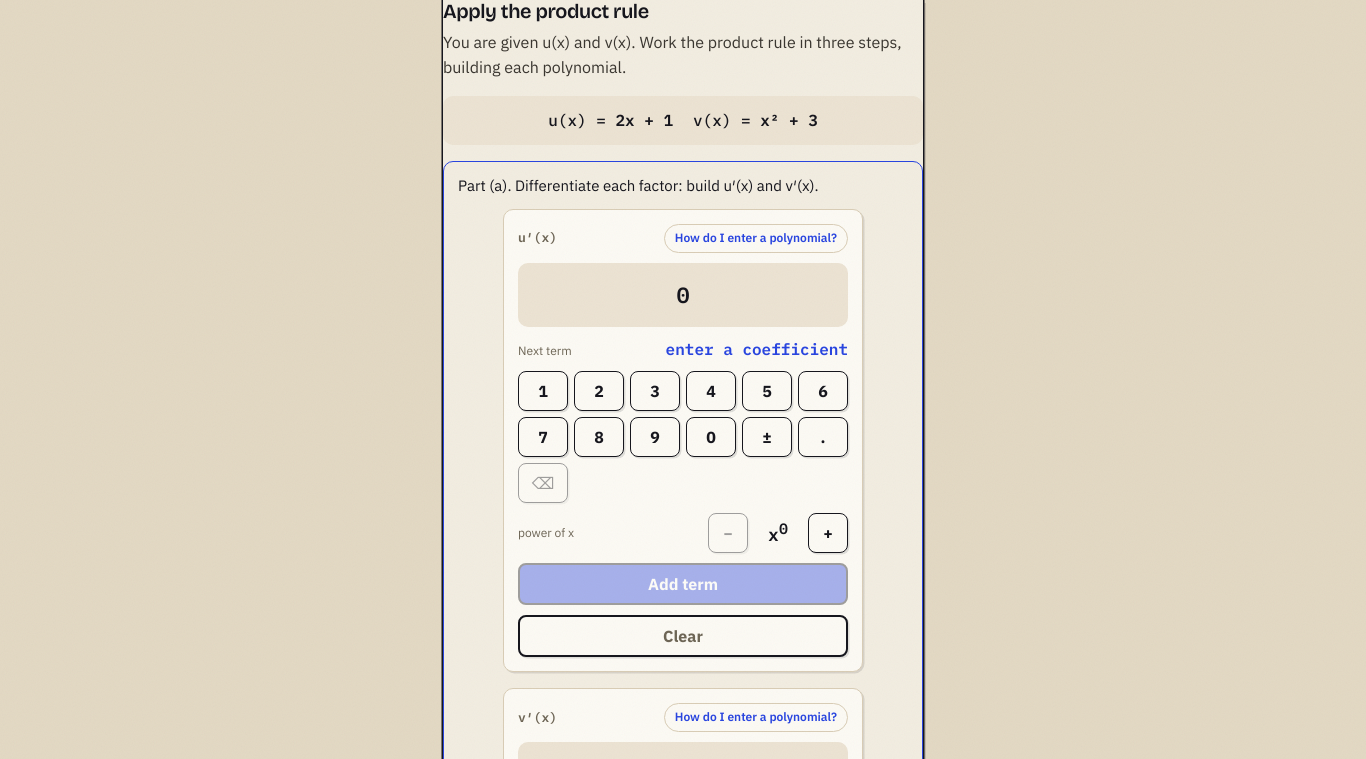
Scenario: product-rule wrong-feedback copy › surfaces that exact message when a part is answered wrong
The image size is (1366, 759).
Step 1. Click the button named "digit 9" → click(655, 437), box x1=630 y1=417 x2=680 y2=457
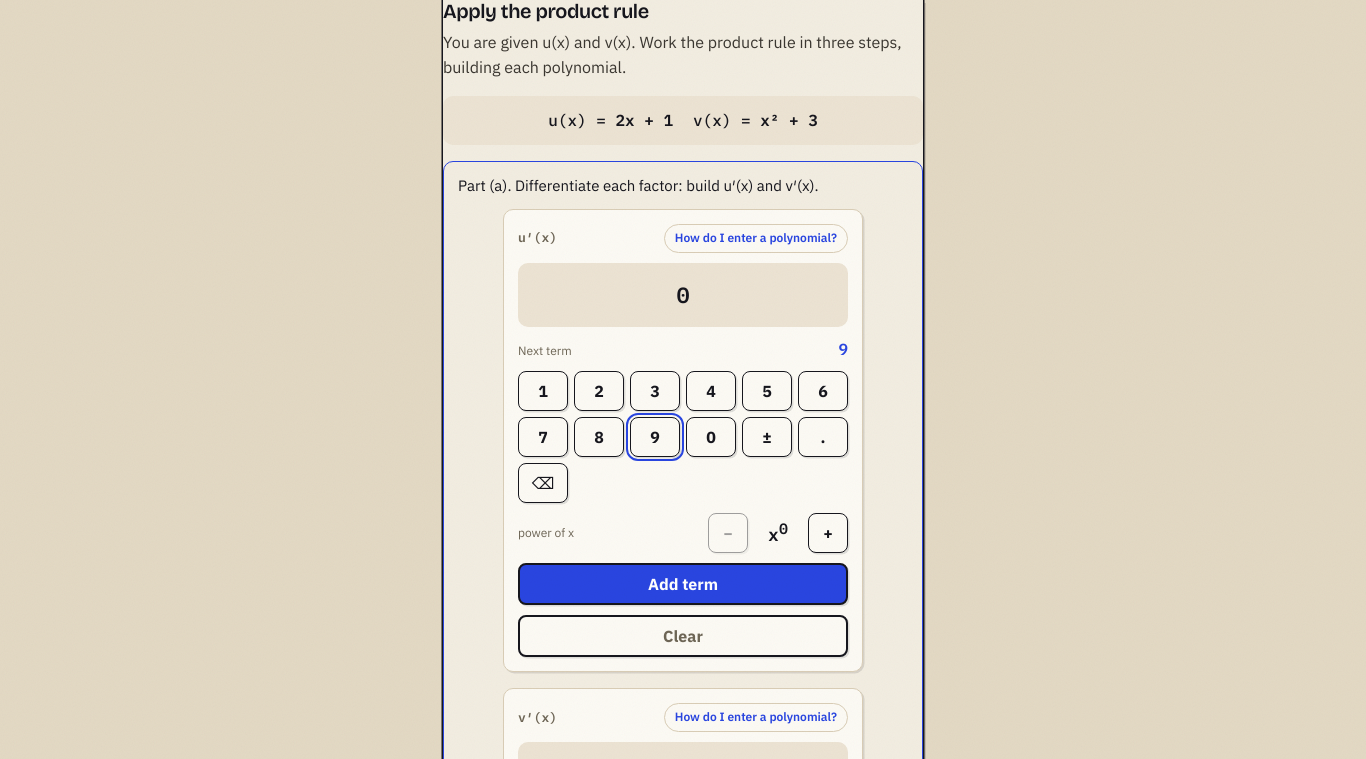
Step 2. Click the button "Add term" → click(683, 584), box x1=518 y1=563 x2=848 y2=605
(page scrolled)
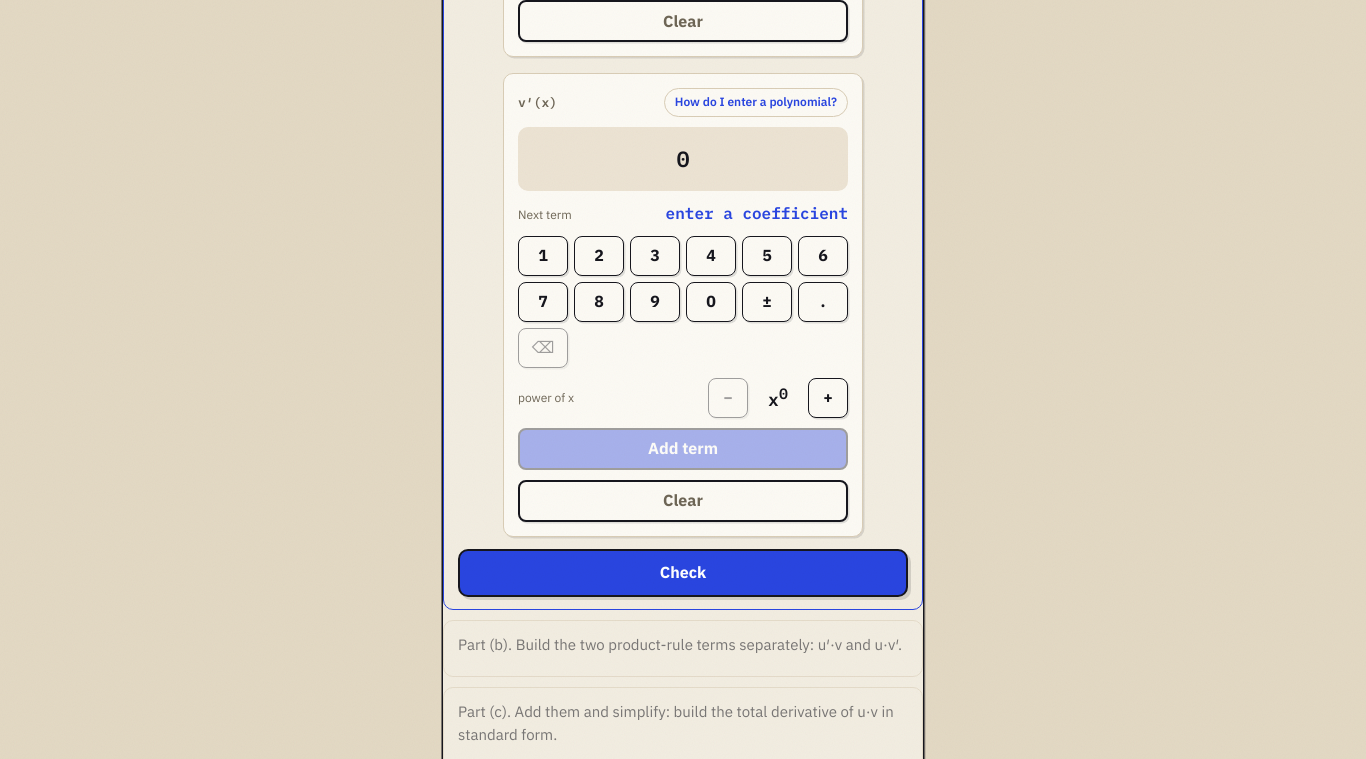
Step 3. Click the button "Check" → click(683, 573), box x1=458 y1=549 x2=908 y2=597
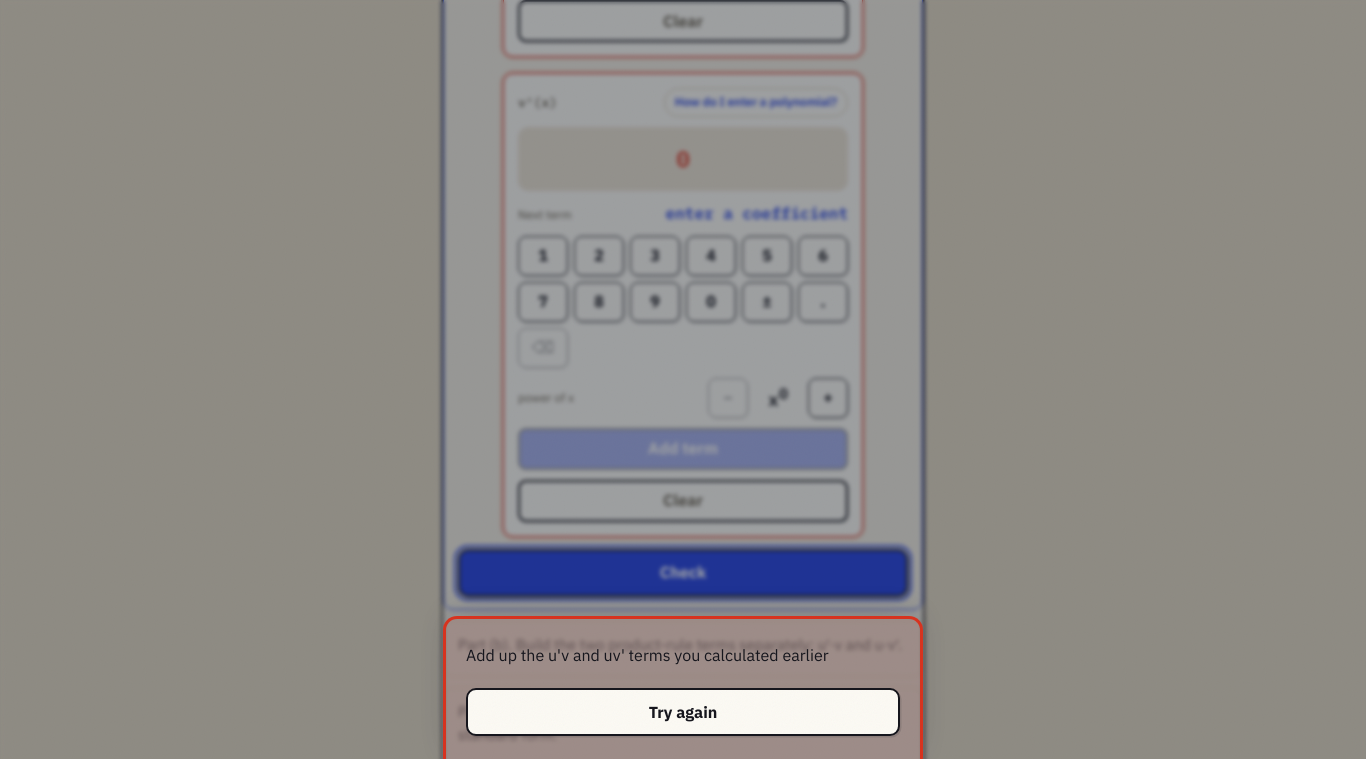
Expected: the text "Add up the u'v and uv' terms you calculated earlier" is shown, x1=466 y1=645 x2=829 y2=665
